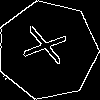X: (23, 25, 76, 68)
